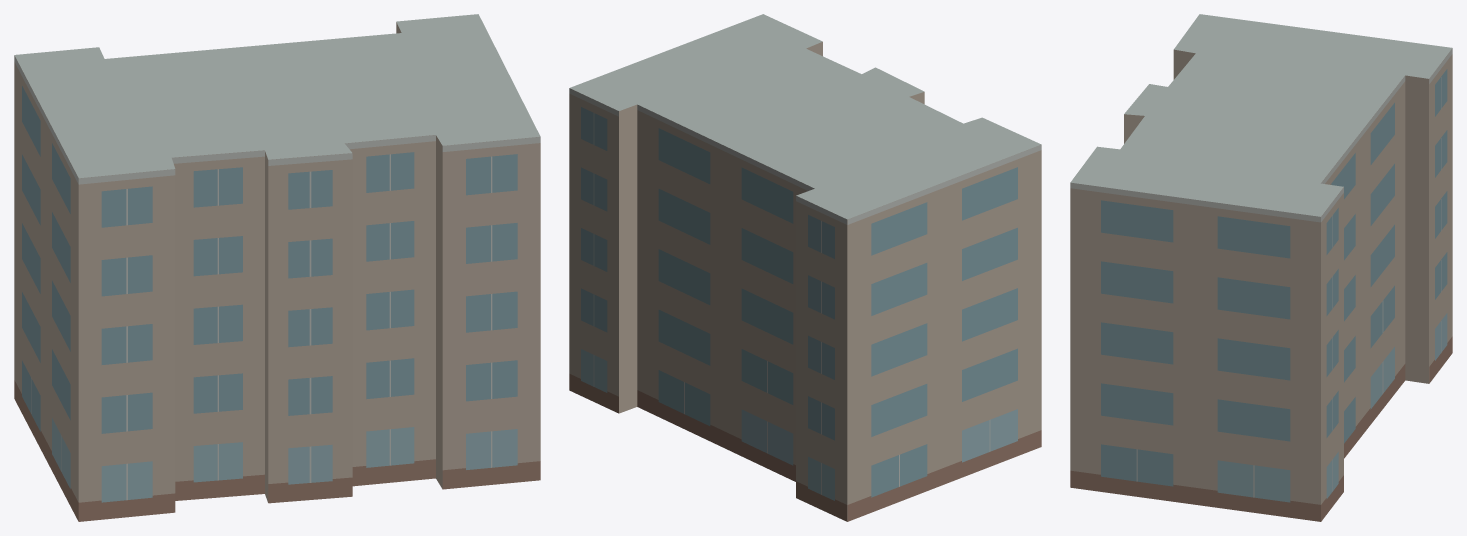
File: survey-upis-32876704.glb
3 renders of one model, left to right at view 1: azimuth 30°, elevation 25°; view 2: azimuth 150°, elevation 25°; view 3: azimuth 270°, elevation 25°, orthographic. The views are drawn at different scales.
Parts seen in each view (by area): view 1: survey-upis-32876704.tmp; view 2: survey-upis-32876704.tmp; view 3: survey-upis-32876704.tmp.
Part boxes in pixels (x1,y1,x2,y2): survey-upis-32876704.tmp: (14,14,540,521); survey-upis-32876704.tmp: (569,14,1041,521); survey-upis-32876704.tmp: (1070,14,1452,521).
Size of the model in its own units: 18.91 by 13.25 by 15.06.
